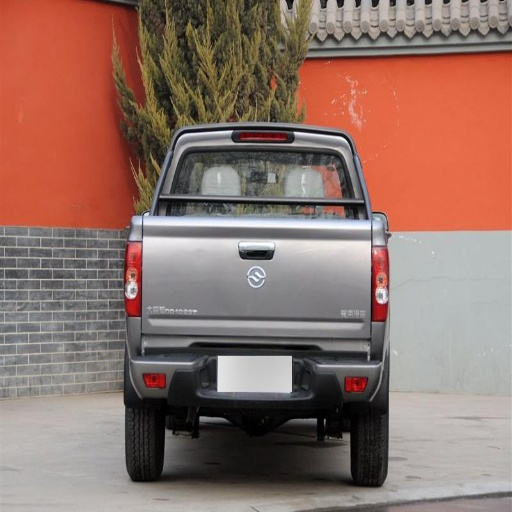_background_: (125, 320, 386, 413)
back_bumper: (173, 145, 324, 195)
back_left_door: (125, 240, 141, 317)
back_right_door: (372, 225, 391, 321)
tailgate: (140, 200, 373, 347)
trunk: (348, 410, 389, 486), (126, 405, 164, 480)
